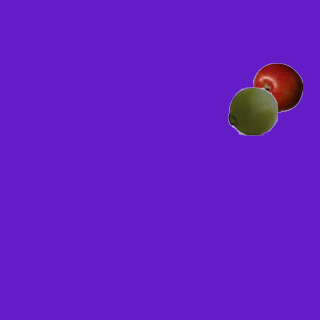Apple Braeburn: (252, 62, 302, 112)
Grape White 4: (227, 85, 277, 135)
